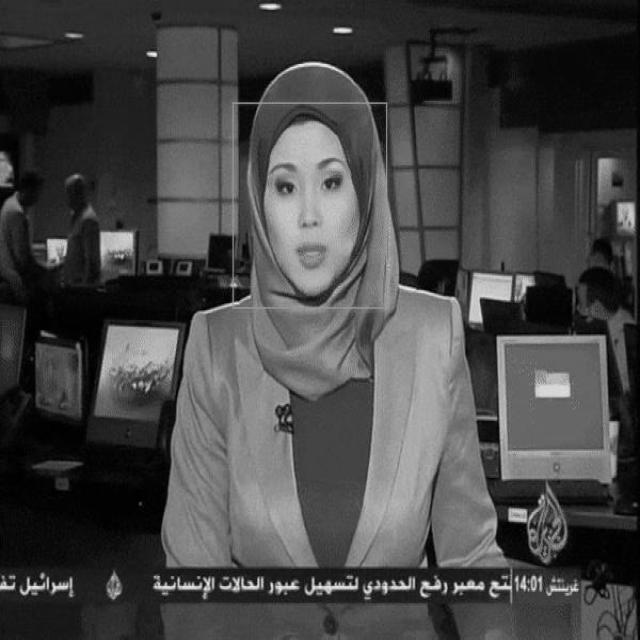fake: (233, 108, 384, 308)
